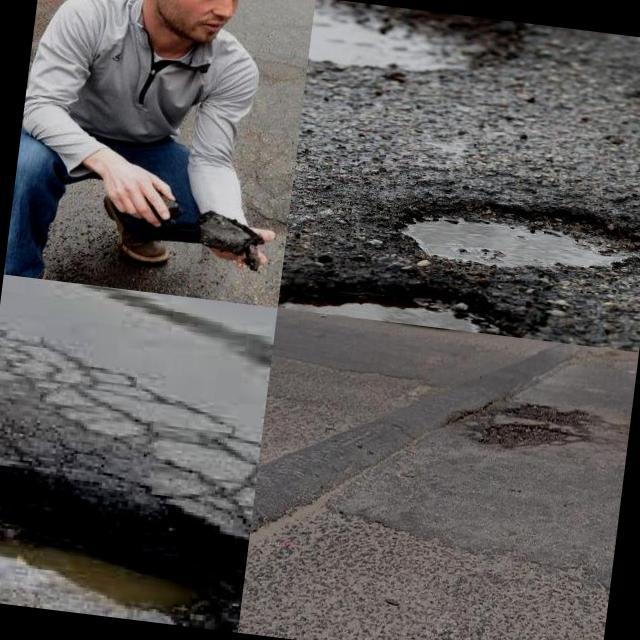Pothole: (308, 0, 525, 74), (400, 204, 640, 267), (277, 279, 527, 336), (485, 400, 597, 443)
